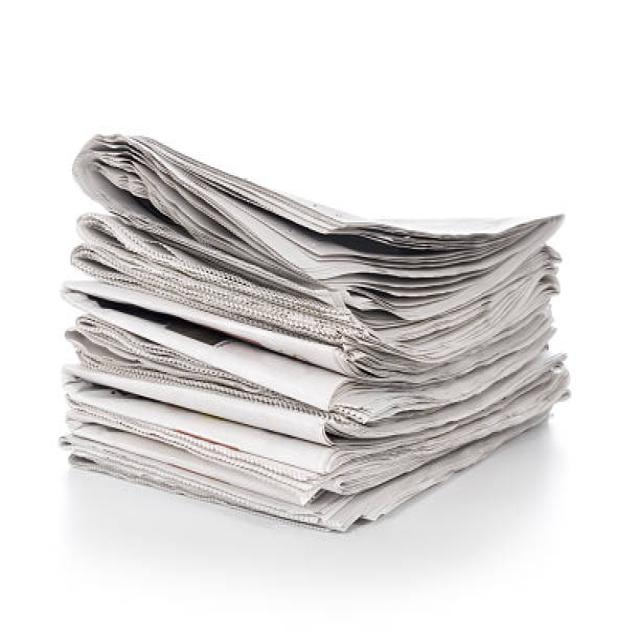electronic: (59, 129, 571, 533)
